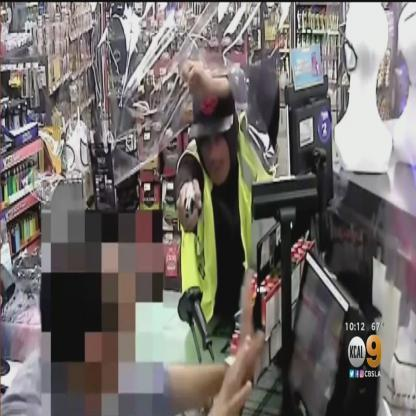pistols: (178, 188, 202, 228)
